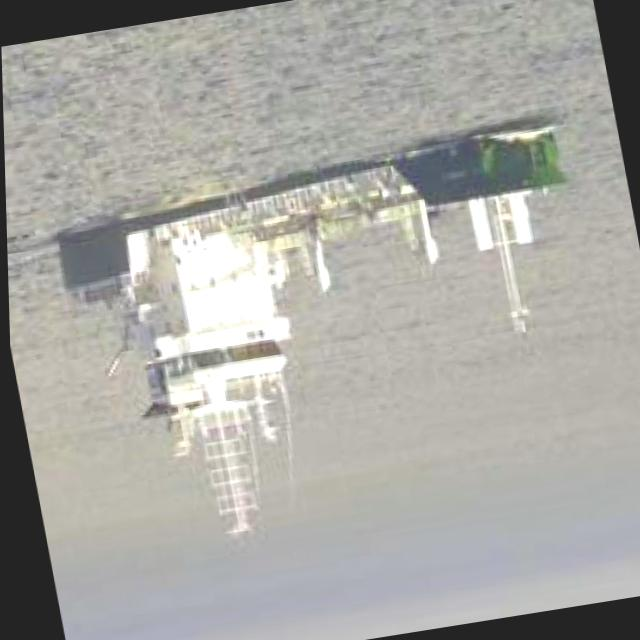ship2: (53, 129, 566, 534)
